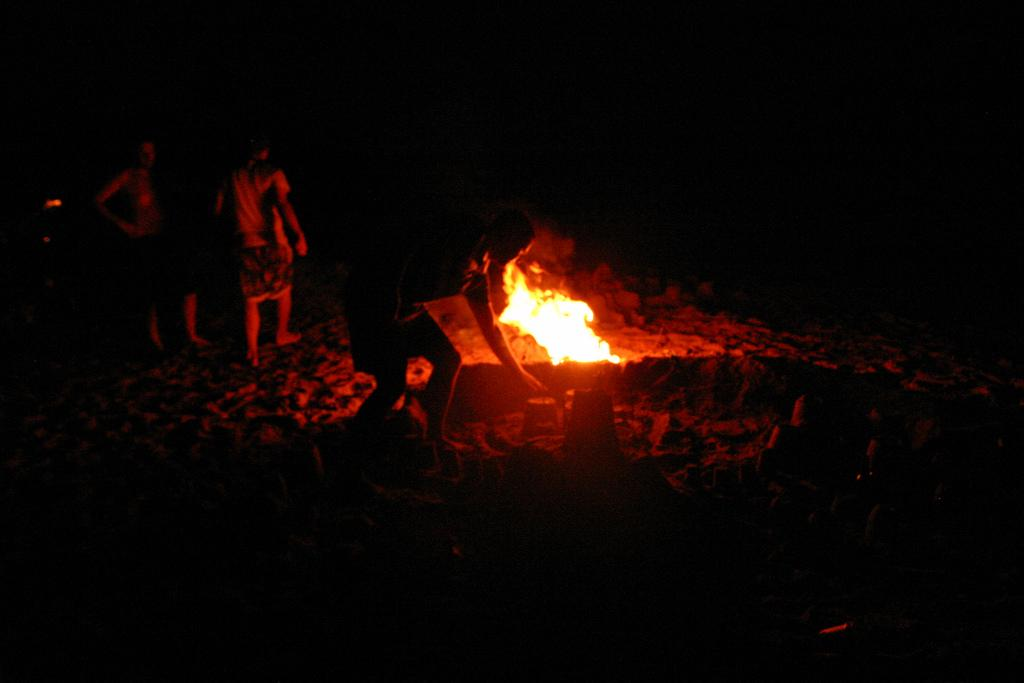fire: (537, 302, 627, 367)
